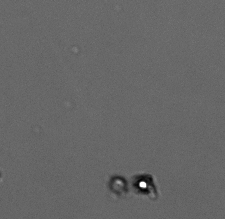Dead Cell: (107, 175, 128, 197)
Living Cell: (132, 174, 154, 195)
